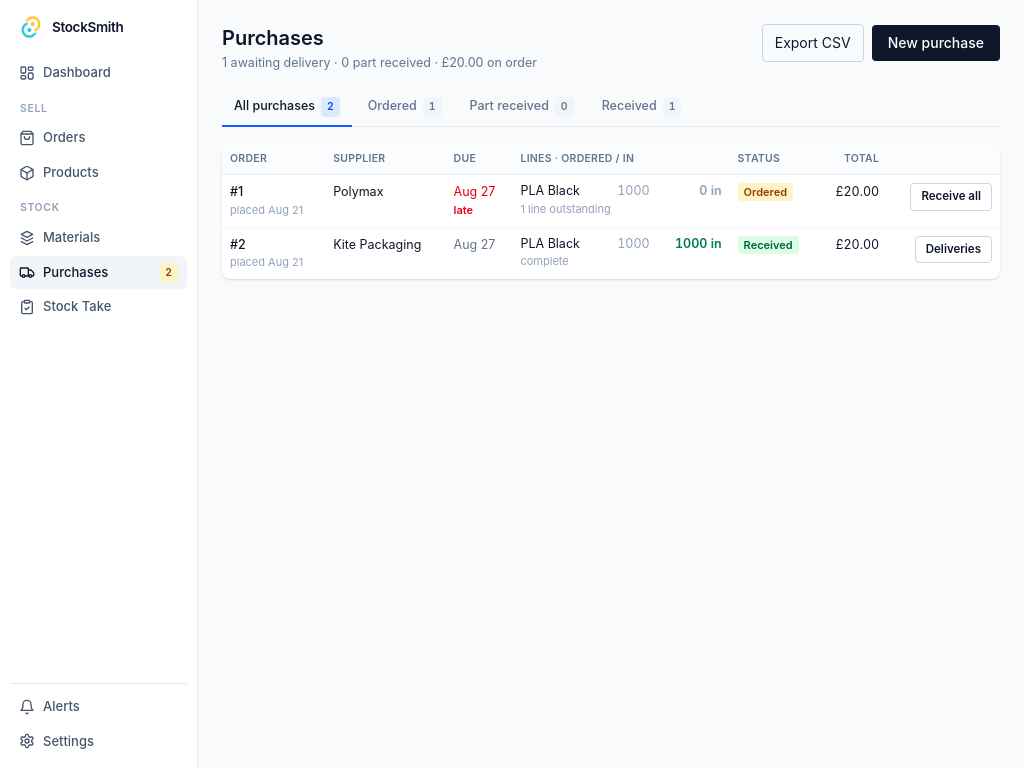
Test: filters the list by status tab
Expected: the heading "Purchases" is shown, [222, 26, 324, 50]
Expected: the text "#1" is shown, [230, 184, 243, 199]
Click the button "Received 1" at [642, 108], box [590, 89, 694, 127]
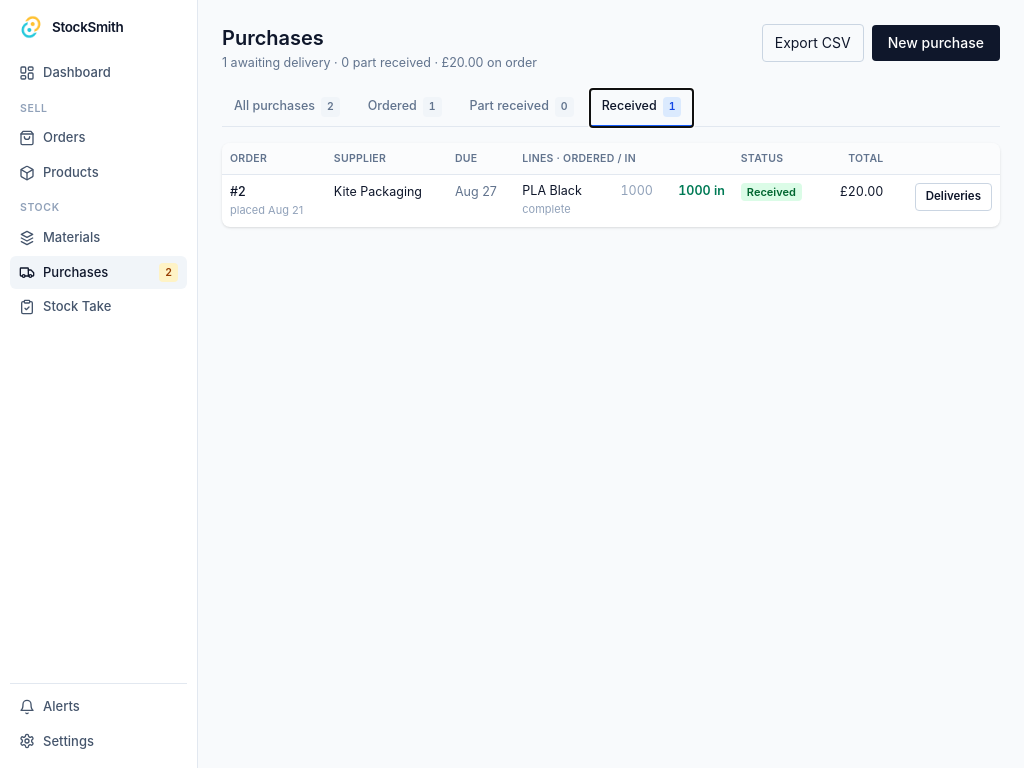
Expected: the text "#2" is shown, [230, 184, 246, 199]
Expected: the text "#1" is gone
